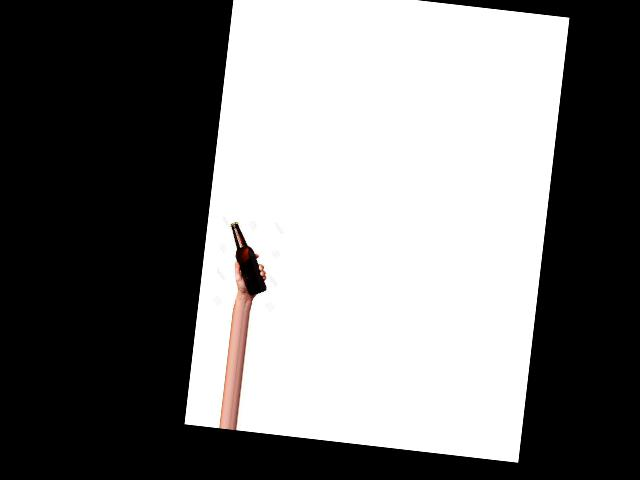beer: (222, 221, 272, 296)
